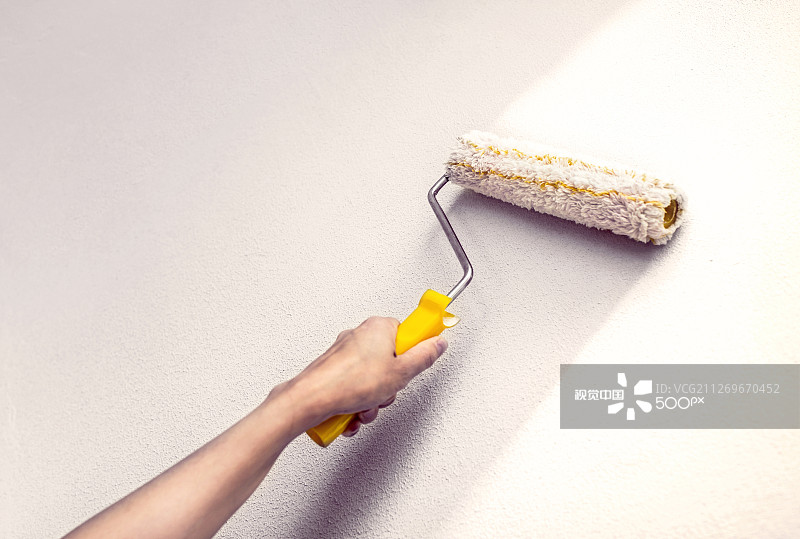no-phone: (256, 296, 454, 441)
